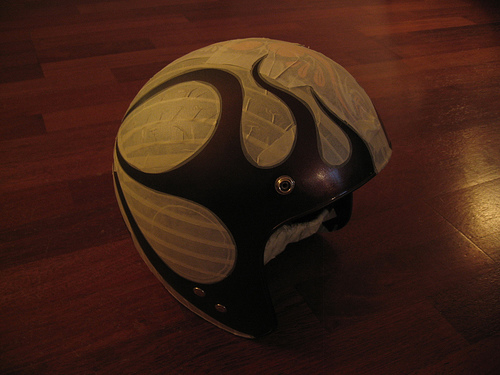helmet: (107, 42, 388, 278)
